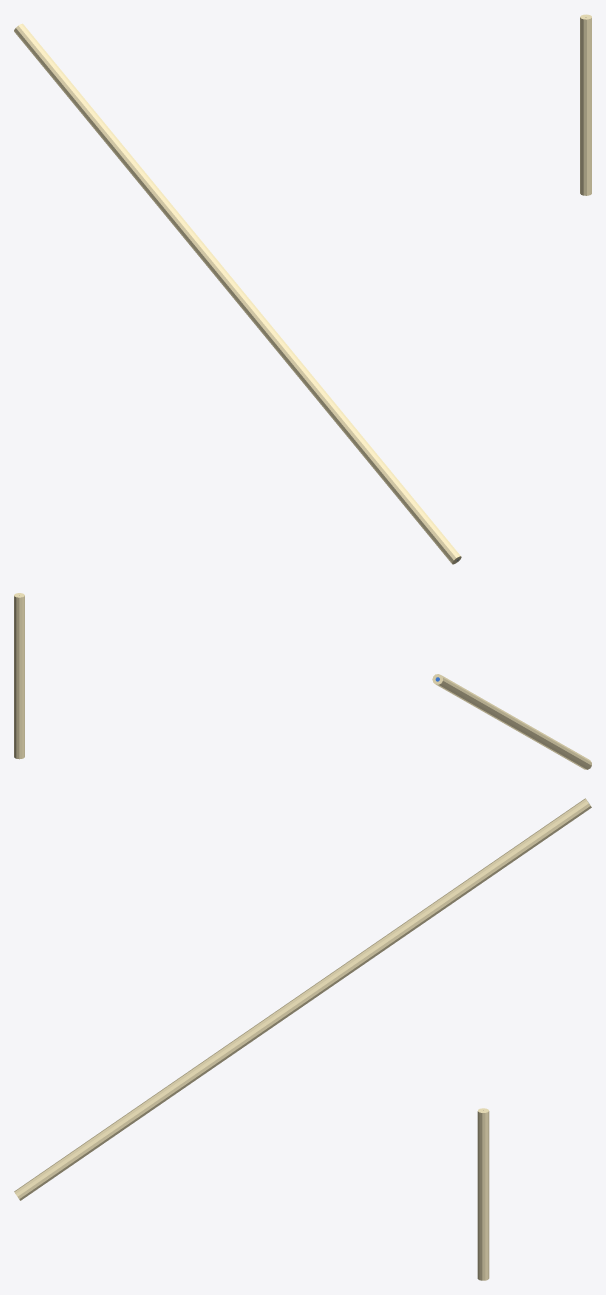
File: tile_470.glb
The picture shows the model from 3 angles, top to bottom: view 1: azimuth 30°, elevation 25°; view 2: azimuth 150°, elevation 25°; view 3: azimuth 270°, elevation 25°; orthographic projection. The views are drawn at different scales.
Size of the model in its own units: 12.4 by 8.07 by 12.49.
